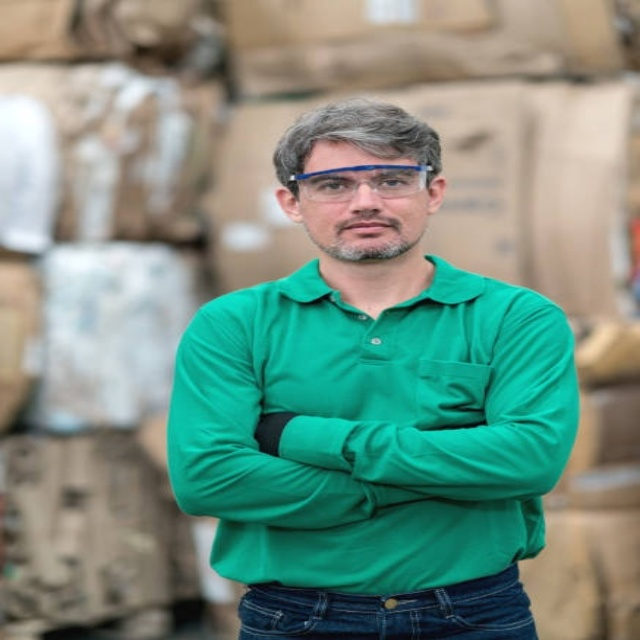Gafas: (290, 166, 433, 201)
Sin_mascara: (332, 216, 407, 251)
